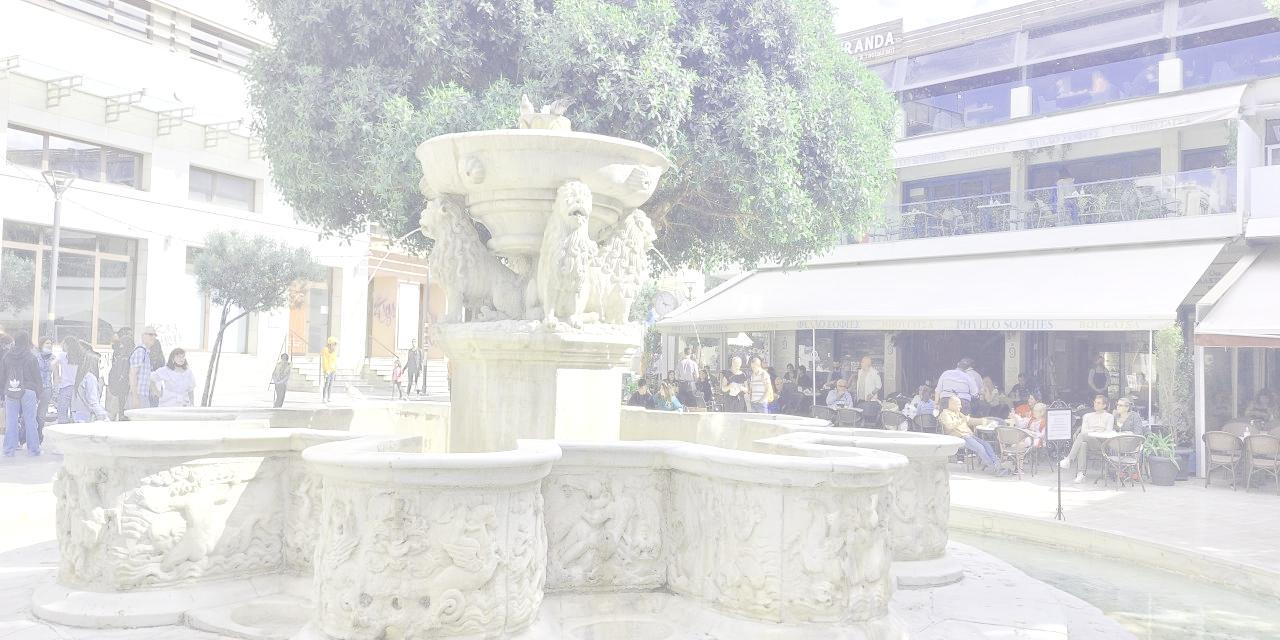Liontaria: (37, 105, 975, 639)
